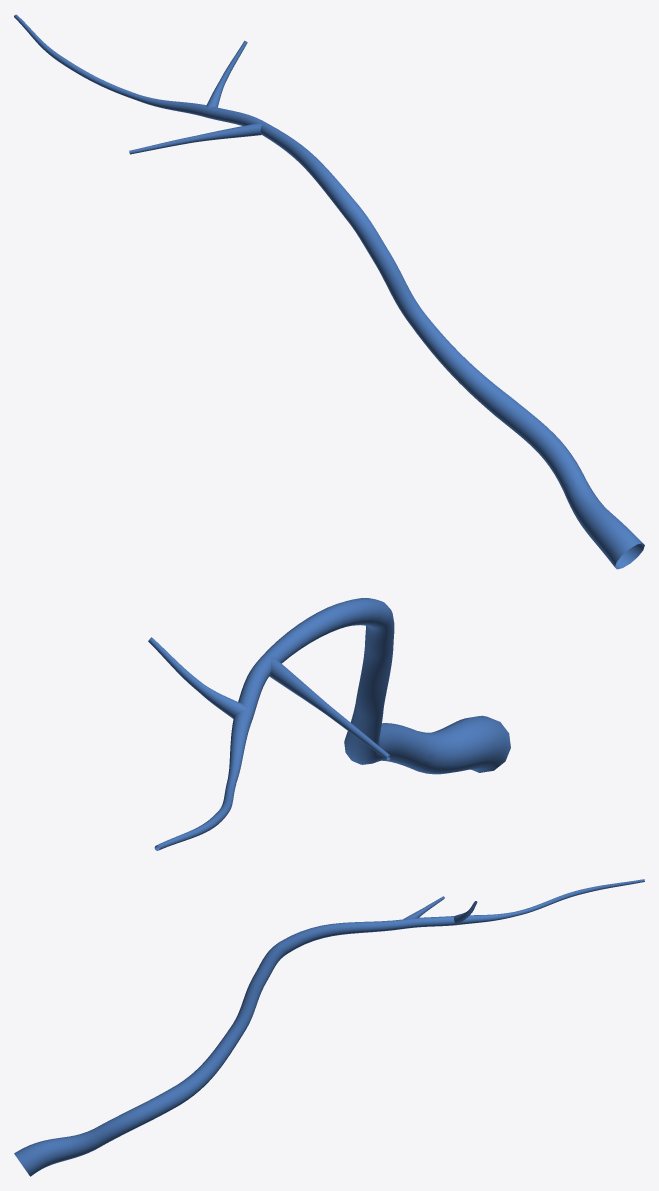
3 renders of one model, top to bottom at view 1: azimuth 30°, elevation 25°; view 2: azimuth 150°, elevation 25°; view 3: azimuth 270°, elevation 25°, orthographic. The views are drawn at different scales.
Visible parts, largest first — view 1: 右侧臀下静脉; view 2: 右侧臀下静脉; view 3: 右侧臀下静脉.
Part boxes in pixels (bbox=[...]): 右侧臀下静脉: bbox=[14, 14, 644, 569]; 右侧臀下静脉: bbox=[148, 598, 510, 850]; 右侧臀下静脉: bbox=[14, 879, 644, 1176].
Size of the model in its own units: 0.0629 by 0.0838 by 0.1953.
